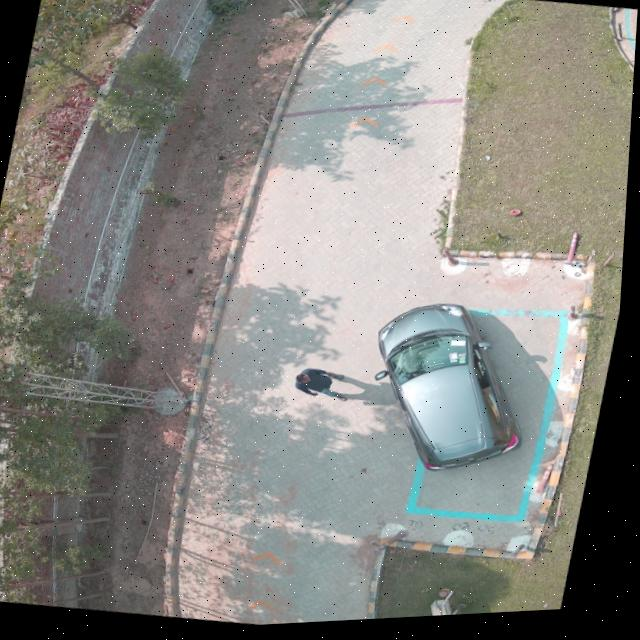car: (382, 307, 528, 477)
